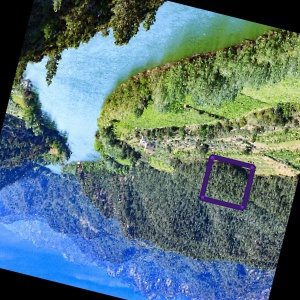square: (197, 151, 257, 213)
